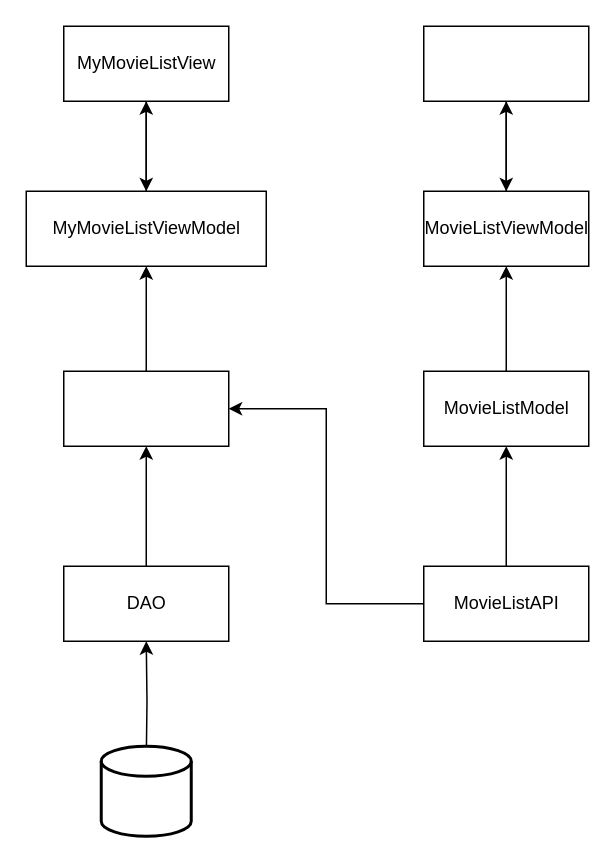
Some shapes in this 615 by 864 pixel diagram are drawn without their labels. The centre of each missing label's shape, as x and y in pixels:
Banco de Dados: the point at 145,790
MovieListView: the point at 505,63
MyMovieListModel: the point at 145,408
